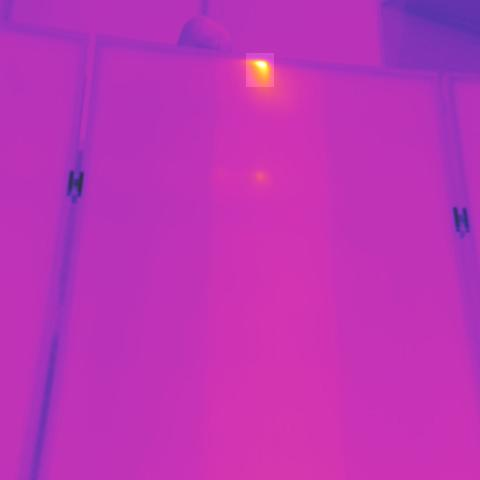fault: (246, 53, 274, 87)
